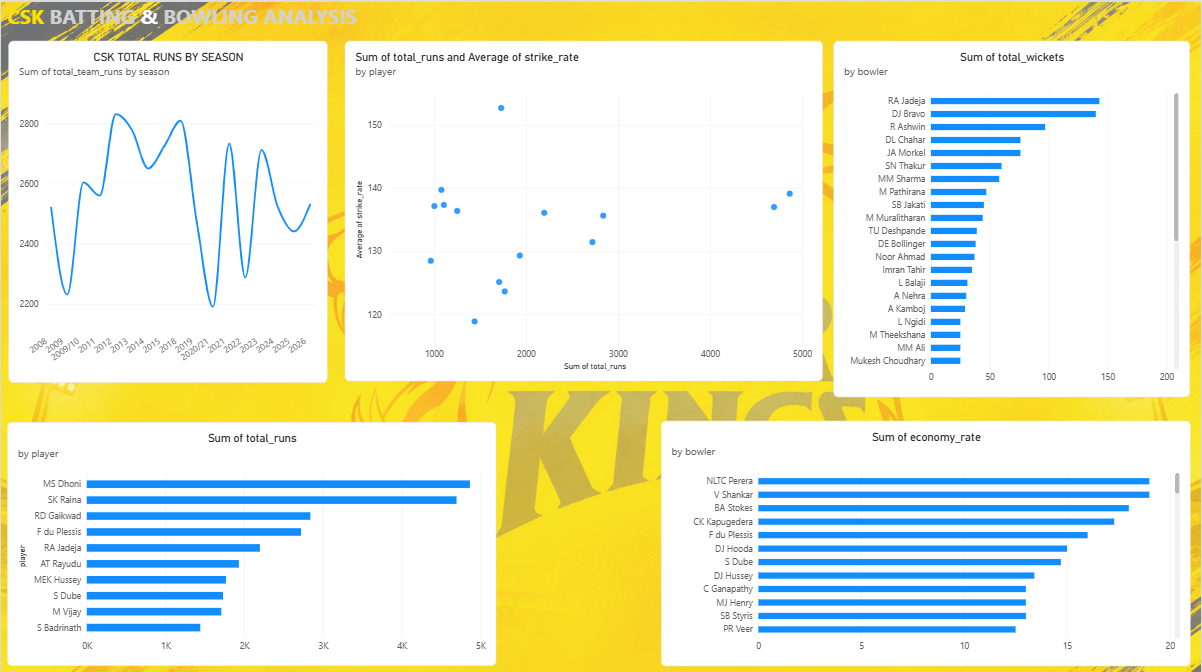

The page's visual inventory and layout, read from the dashboard file:
{"tool":"powerbi","page":{"name":"Batting & Bowling","canvas":[1920,1080],"ordinal":1},"visuals":[{"type":"textbox","box":[10,0,574.3,64.3],"z":1},{"type":"clusteredBarChart","fields":{"Category":["csk_top_run_scorers.player"],"Y":["Sum(csk_top_run_scorers.total_runs)"]},"box":[10,672.5,782.5,390],"z":2},{"type":"lineChart","title":"CSK TOTAL RUNS BY SEASON","fields":{"Category":["csk_batting_by_season.season"],"Y":["Sum(csk_batting_by_season.total_team_runs)"]},"box":[12.5,62.5,510,547.5],"z":3},{"type":"clusteredBarChart","fields":{"Category":["csk_bowler_comparison.bowler"],"Y":["Sum(csk_bowler_comparison.total_wickets)"]},"box":[1332.5,62.5,570,570],"z":4},{"type":"clusteredBarChart","fields":{"Category":["csk_bowler_economy.bowler"],"Y":["Sum(csk_bowler_economy.economy_rate)"]},"box":[1055,670,847.5,392.5],"z":5},{"type":"scatterChart","fields":{"Category":["csk_batting_strike_rate.player"],"X":["csk_batting_strike_rate.total_runs"],"Y":["csk_batting_summary.strike_rate"]},"box":[550,62.5,765,545],"z":7}]}

Visuals, with their boxes in screenshot pixels (x1, y1, x2, y2), scaled from the page's 1920x1080 canvas onto the 1202x672 screenshot:
textbox: region(6, 0, 366, 40)
clusteredBarChart - csk_top_run_scorers.player x Sum(csk_top_run_scorers.total_runs): region(6, 418, 496, 661)
"CSK TOTAL RUNS BY SEASON" lineChart: region(8, 39, 327, 380)
clusteredBarChart - csk_bowler_comparison.bowler x Sum(csk_bowler_comparison.total_wickets): region(834, 39, 1191, 394)
clusteredBarChart - csk_bowler_economy.bowler x Sum(csk_bowler_economy.economy_rate): region(660, 417, 1191, 661)
scatterChart - csk_batting_strike_rate.player x csk_batting_strike_rate.total_runs: region(344, 39, 823, 378)
